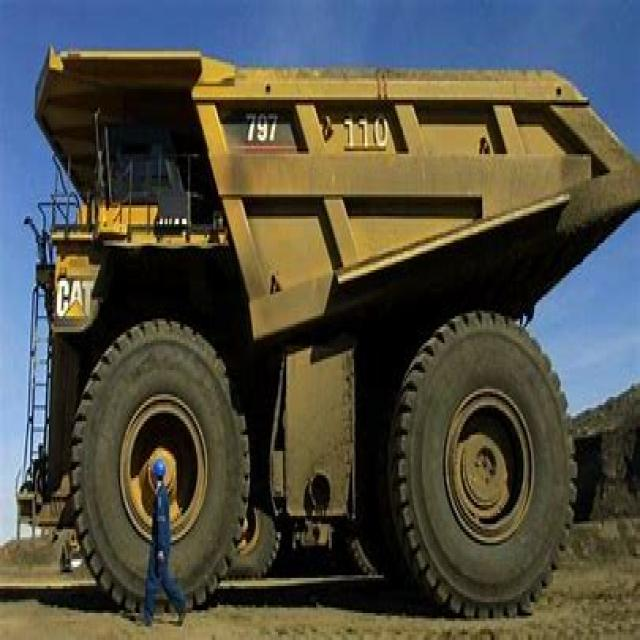dump_truck: (16, 35, 635, 619)
